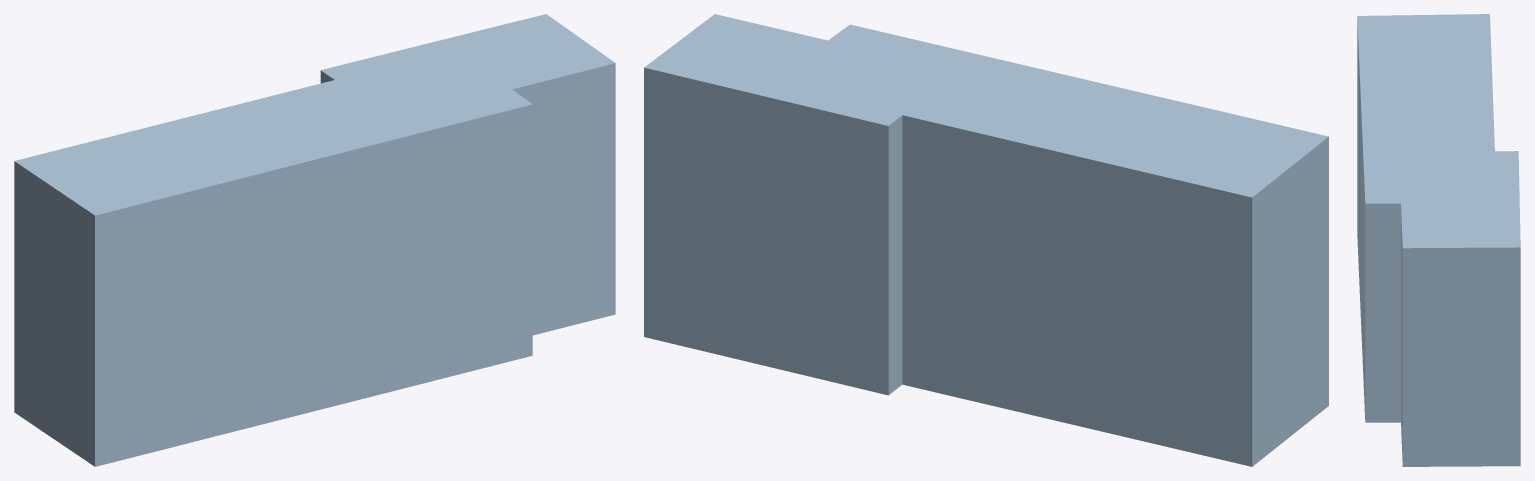
The model's file is osm_way_223859783.glb.
The picture shows the model from 3 angles, left to right: view 1: azimuth 30°, elevation 25°; view 2: azimuth 150°, elevation 25°; view 3: azimuth 270°, elevation 25°; orthographic projection. The views are drawn at different scales.
Visible parts, largest first — view 1: osm_way_223859783; view 2: osm_way_223859783; view 3: osm_way_223859783.
Boxes of the visible parts, x1=… form: osm_way_223859783: x1=14, y1=14, x2=615, y2=466; osm_way_223859783: x1=644, y1=14, x2=1328, y2=466; osm_way_223859783: x1=1357, y1=14, x2=1520, y2=466.
Bounding box in the file's own units: 44.08 × 19.2 × 12.99.
